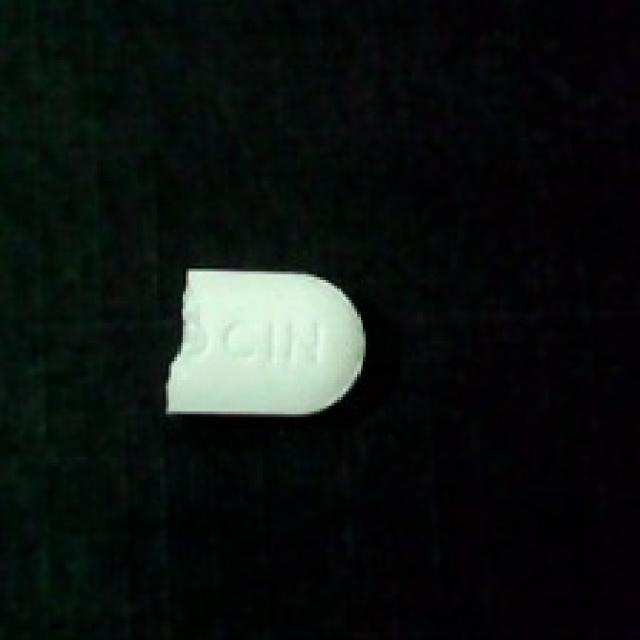defected: (163, 263, 369, 420)
